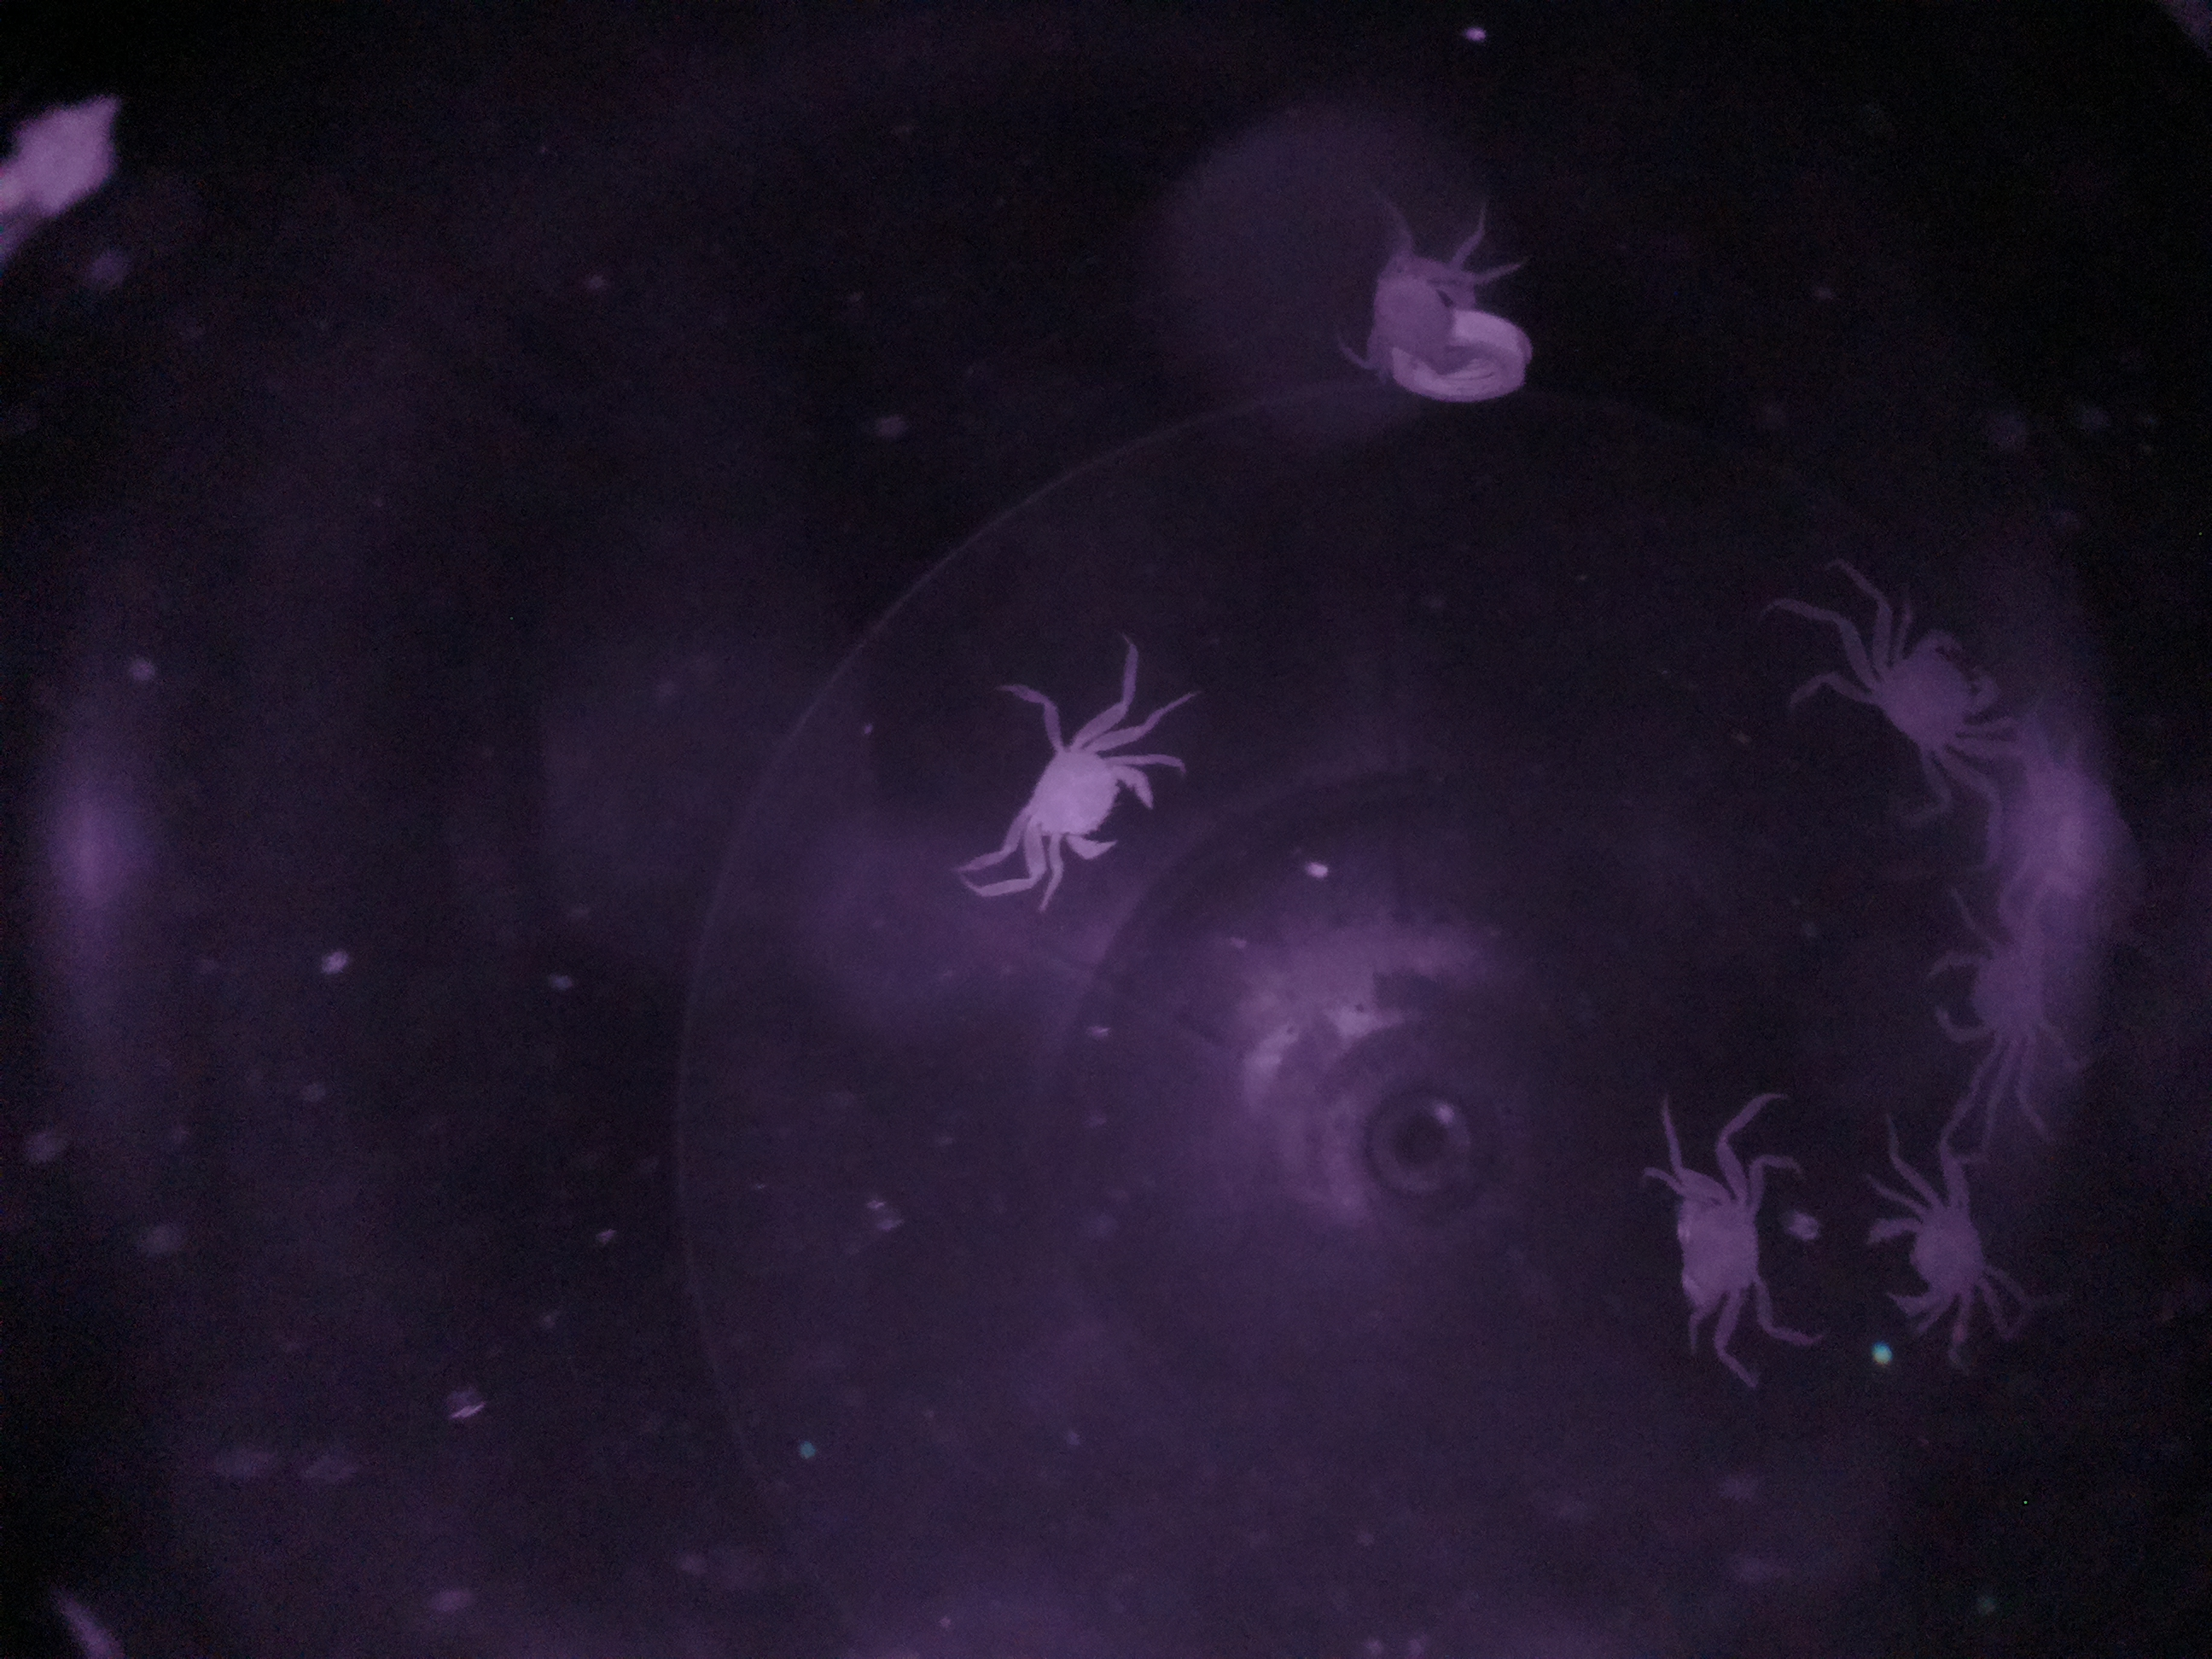Crab: (996, 664, 1172, 904), (1841, 603, 2033, 809), (1857, 1159, 2022, 1356), (1656, 1126, 1792, 1356)
